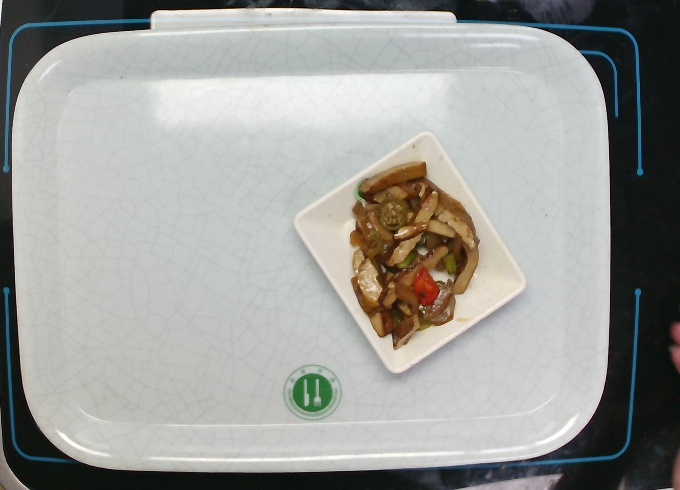WCQzf-Bai_Se_Si_Fang_Die: (286, 137, 515, 376)
